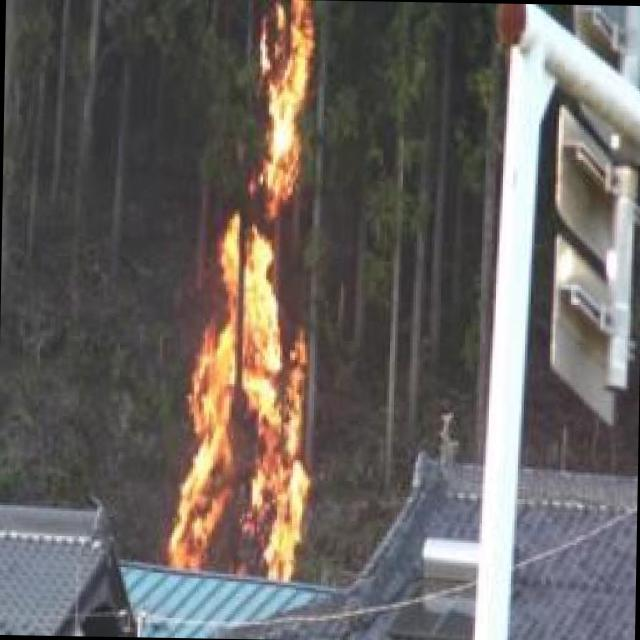Fire: (172, 11, 344, 582)
